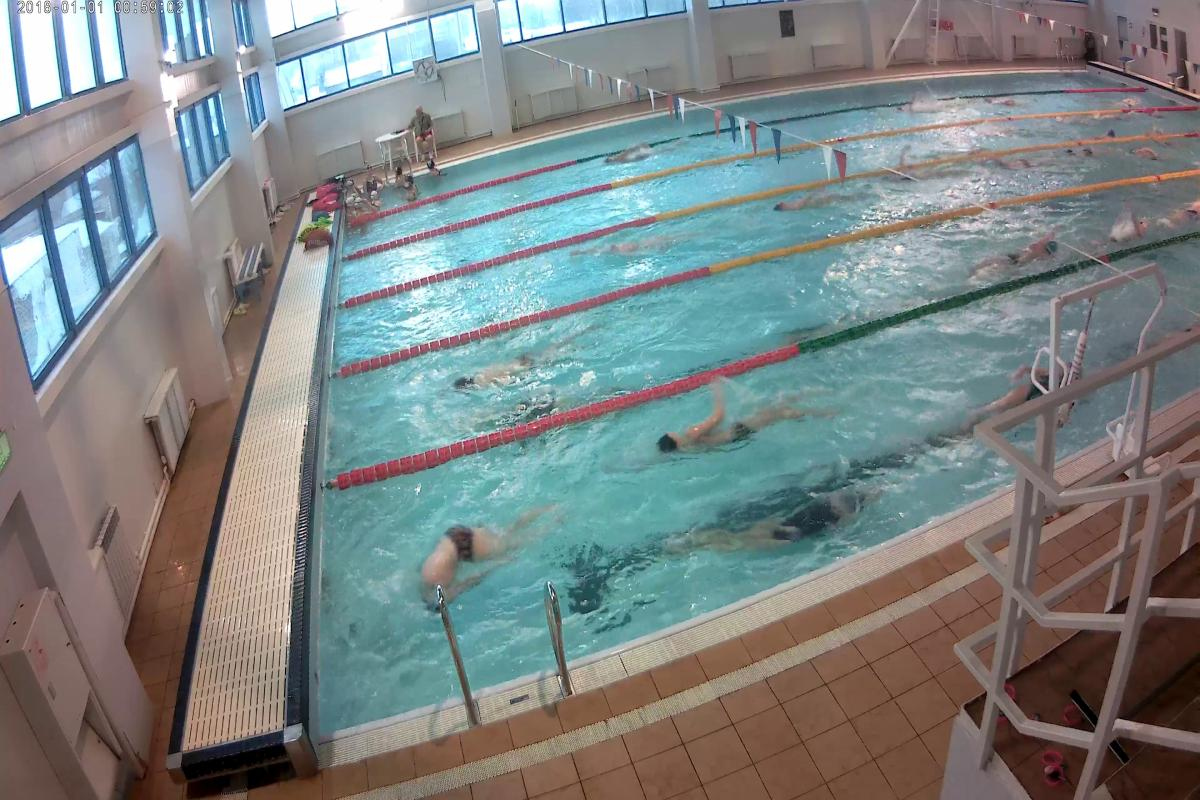swimmer: (678, 482, 860, 537), (430, 524, 527, 592), (666, 404, 823, 445), (458, 351, 580, 386), (488, 392, 615, 416), (765, 182, 899, 204), (588, 234, 720, 254), (990, 232, 1059, 264), (998, 150, 1088, 168), (1097, 217, 1163, 238)
